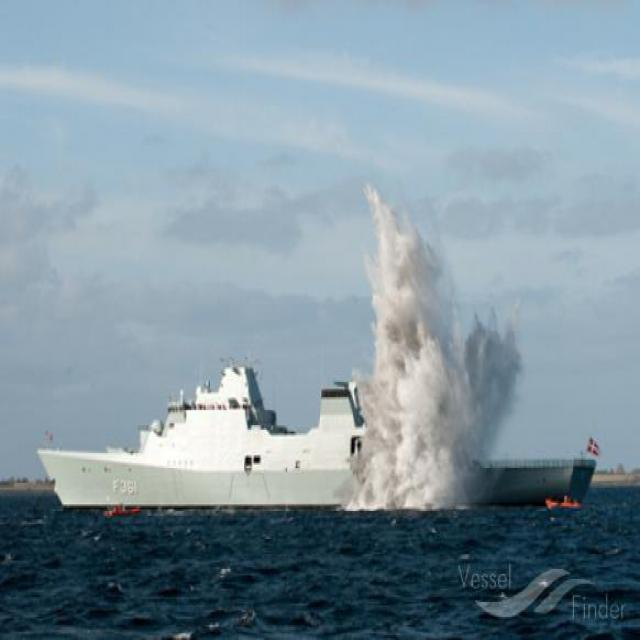OCR: (112, 477, 138, 495)
